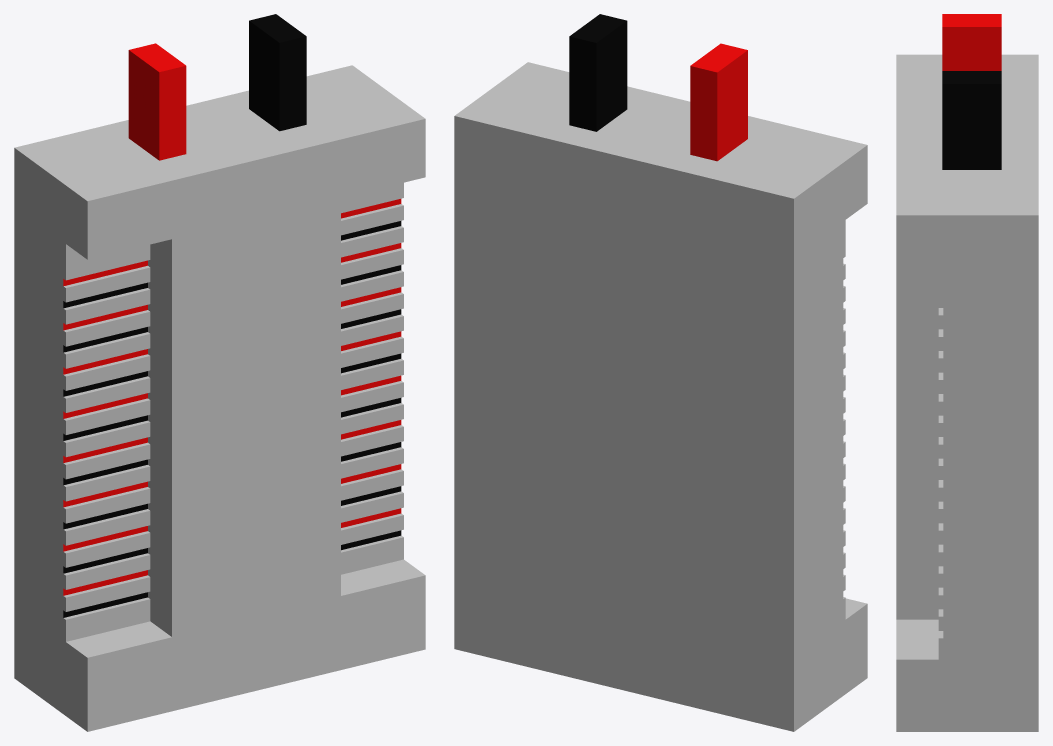
The model's file is Simp PDP.obj.
The picture shows the model from 3 angles, left to right: view 1: azimuth 30°, elevation 25°; view 2: azimuth 150°, elevation 25°; view 3: azimuth 270°, elevation 25°; orthographic projection. The views are drawn at different scales.
Parts seen in each view (by area): view 1: mesh71, mesh68, mesh141, mesh65, mesh144, mesh148, mesh149, mesh145, mesh56, mesh57, mesh74, mesh67 (+34 smaller); view 2: mesh70, mesh68, mesh141, mesh148, mesh144, mesh147, mesh143, mesh146, mesh151; view 3: mesh136, mesh141, mesh137, mesh150, mesh142, mesh74, mesh146, mesh151.
Boxes of the visible parts, x1,y1,x2,y2 form: mesh71: [87, 119, 425, 731]; mesh68: [14, 148, 87, 731]; mesh141: [15, 65, 425, 201]; mesh65: [148, 239, 171, 636]; mesh144: [128, 50, 159, 160]; mesh148: [249, 21, 279, 130]; mesh149: [279, 36, 306, 130]; mesh145: [159, 66, 186, 160]; mesh56: [66, 599, 150, 641]; mesh57: [66, 621, 171, 657]; mesh74: [341, 559, 424, 595]; mesh67: [66, 244, 150, 280]; mesh70: [454, 116, 793, 731]; mesh68: [794, 145, 867, 731]; mesh141: [455, 62, 866, 198]; mesh148: [596, 21, 627, 131]; mesh144: [717, 50, 747, 160]; mesh147: [569, 36, 596, 131]; mesh143: [690, 66, 717, 161]; mesh146: [690, 43, 747, 72]; mesh151: [569, 14, 626, 42]; mesh136: [896, 215, 1038, 731]; mesh141: [896, 54, 1038, 215]; mesh137: [896, 272, 938, 619]; mesh150: [942, 84, 1001, 169]; mesh142: [942, 27, 1001, 70]; mesh74: [896, 619, 938, 659]; mesh146: [942, 14, 1001, 26]; mesh151: [942, 71, 1001, 83].
Bounding box in the file's own units: 0.1016 × 0.1778 × 0.0381.
